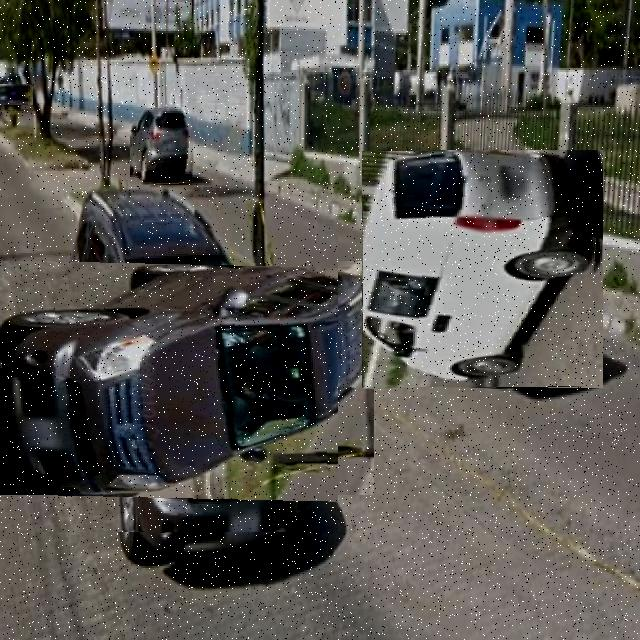car: (32, 225, 339, 533), (364, 151, 604, 390), (131, 105, 200, 187), (1, 79, 29, 111)
